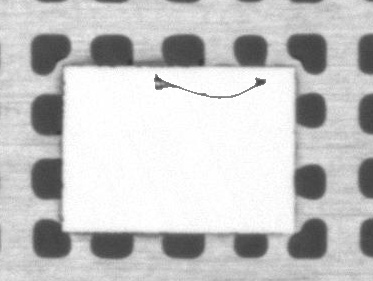DIE_INK: (200, 53, 356, 76)
